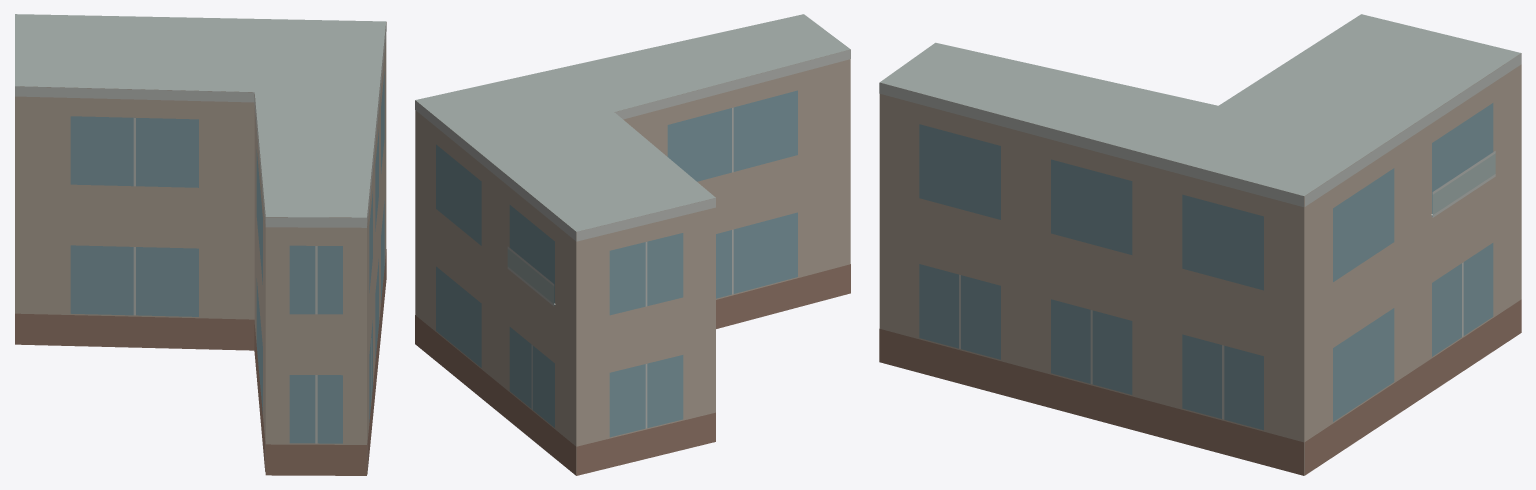
The model's file is survey-upis-32882799.glb.
3 renders of one model, left to right at view 1: azimuth 30°, elevation 25°; view 2: azimuth 150°, elevation 25°; view 3: azimuth 270°, elevation 25°, orthographic. The views are drawn at different scales.
Parts seen in each view (by area): view 1: survey-upis-32882799.tmp; view 2: survey-upis-32882799.tmp; view 3: survey-upis-32882799.tmp.
Part boxes in pixels (left/top/right/bottom): survey-upis-32882799.tmp: left=15, top=14, right=386, bottom=475; survey-upis-32882799.tmp: left=415, top=14, right=850, bottom=475; survey-upis-32882799.tmp: left=879, top=14, right=1521, bottom=475.
Size of the model in its own units: 8.53 by 6.1 by 12.7.
